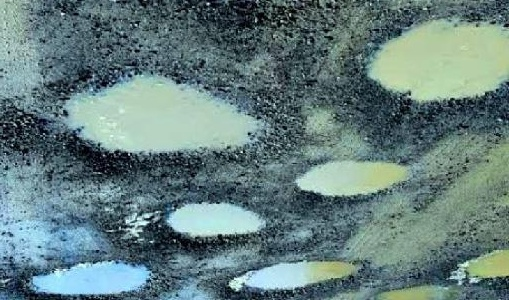pothole: (49, 62, 283, 176), (351, 14, 508, 117), (12, 258, 176, 300), (211, 258, 370, 299), (291, 156, 418, 207), (154, 197, 274, 250), (449, 246, 508, 286), (370, 284, 453, 300)
